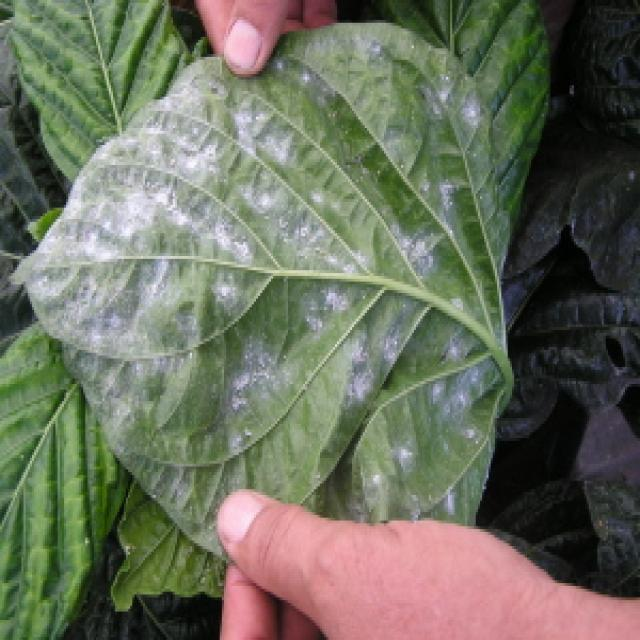Whitefly: (11, 18, 509, 565)
